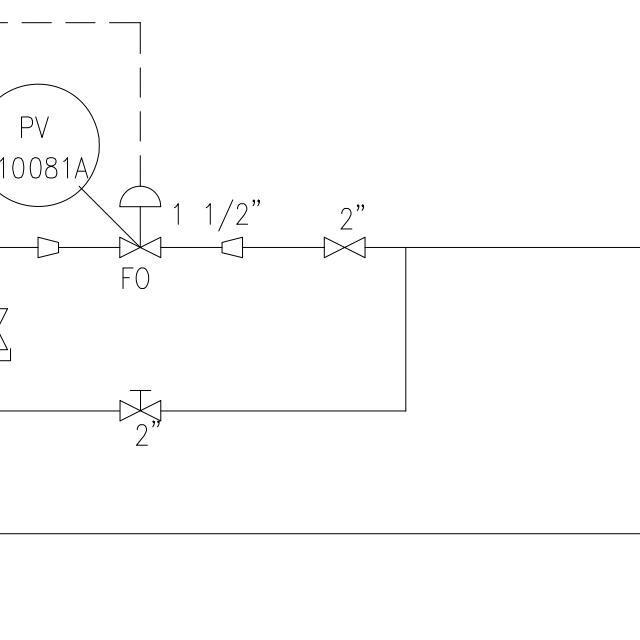FC: (111, 178, 166, 269)
GV: (319, 233, 371, 264)
HV: (116, 382, 162, 431)
SP: (31, 232, 63, 263), (217, 233, 246, 260)
